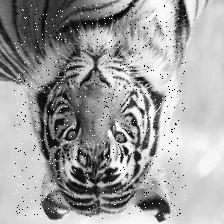tiger: (13, 4, 185, 218)
